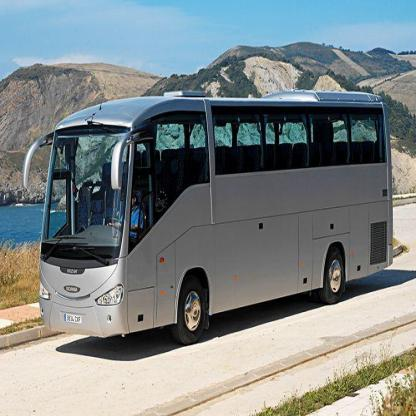Bus: (21, 70, 407, 364)
